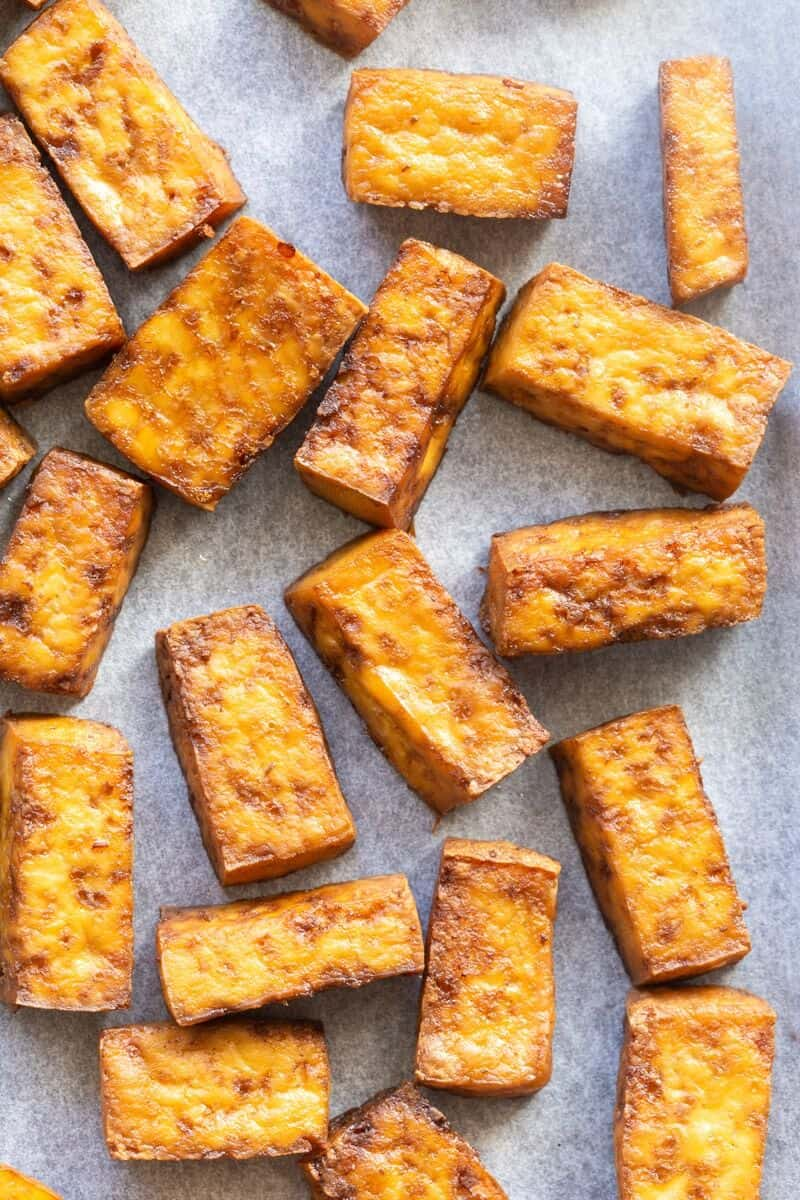Tahu: (502, 225, 771, 496), (99, 208, 350, 484), (312, 496, 532, 801), (552, 660, 750, 991), (482, 470, 766, 661), (159, 571, 315, 900), (294, 67, 599, 229), (47, 24, 235, 284), (592, 28, 770, 298), (1, 712, 153, 999), (1, 458, 143, 711)
